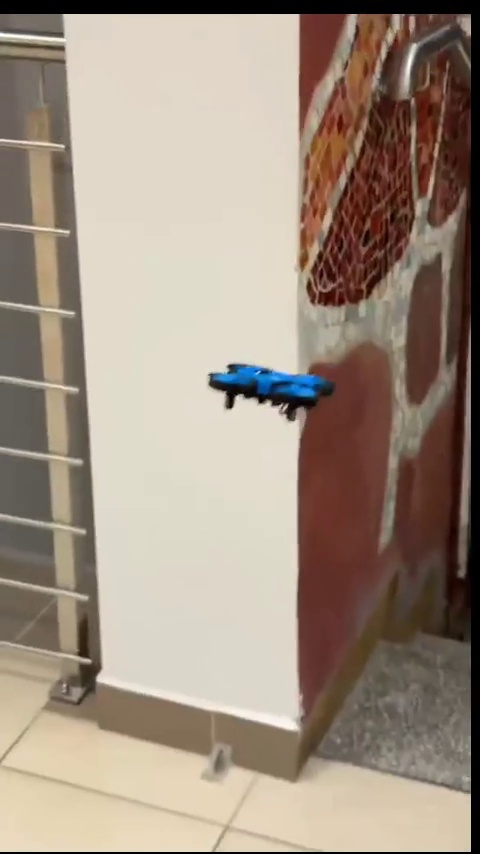drone: (212, 358, 333, 417)
